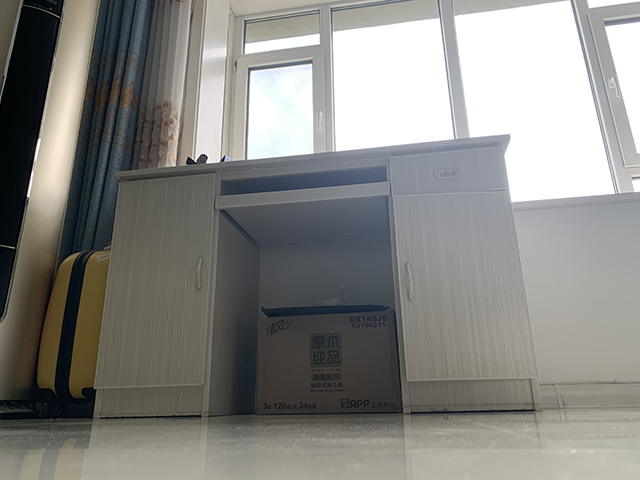table: (91, 132, 544, 420)
